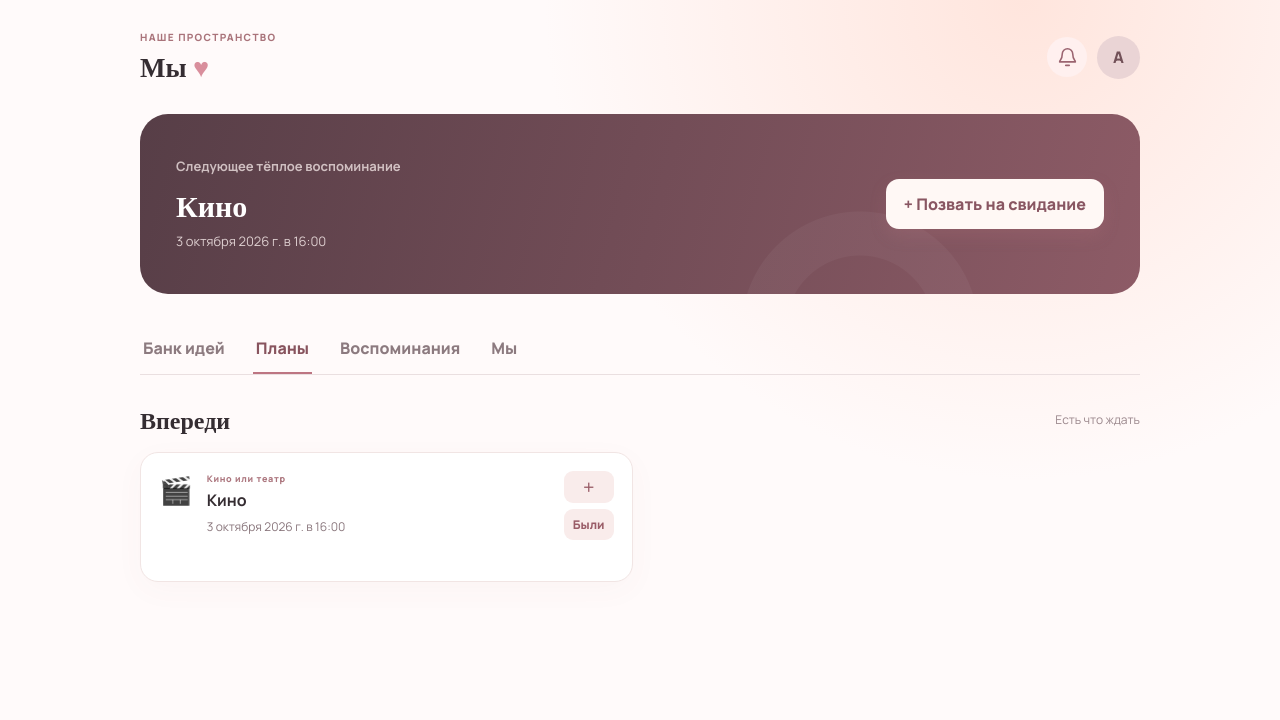
it: date details › shows calendar status for both partners
Click the button with aria-label "Открыть детали: Кино" at (246, 478), box [207,471,550,542]
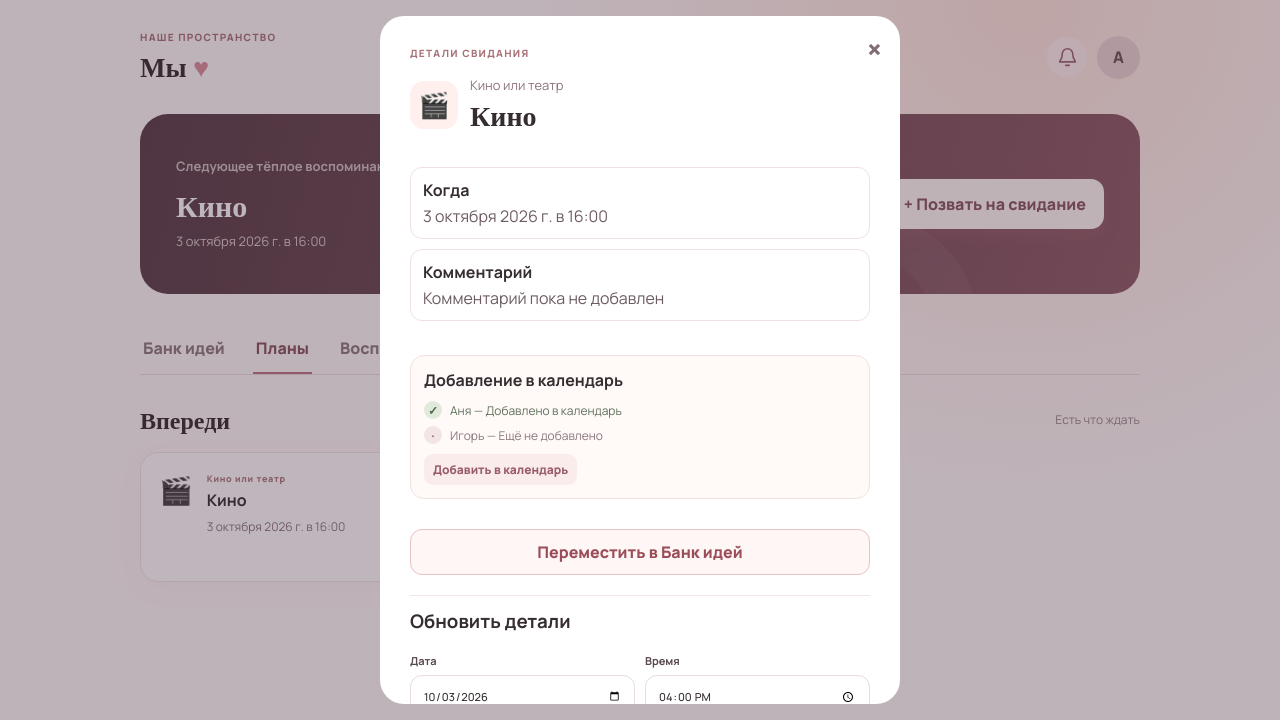
Expected: the text "Аня — Добавлено в календарь" is shown, [450,402,622,418]
Expected: the text "Игорь — Ещё не добавлено" is shown, [450,426,603,444]
